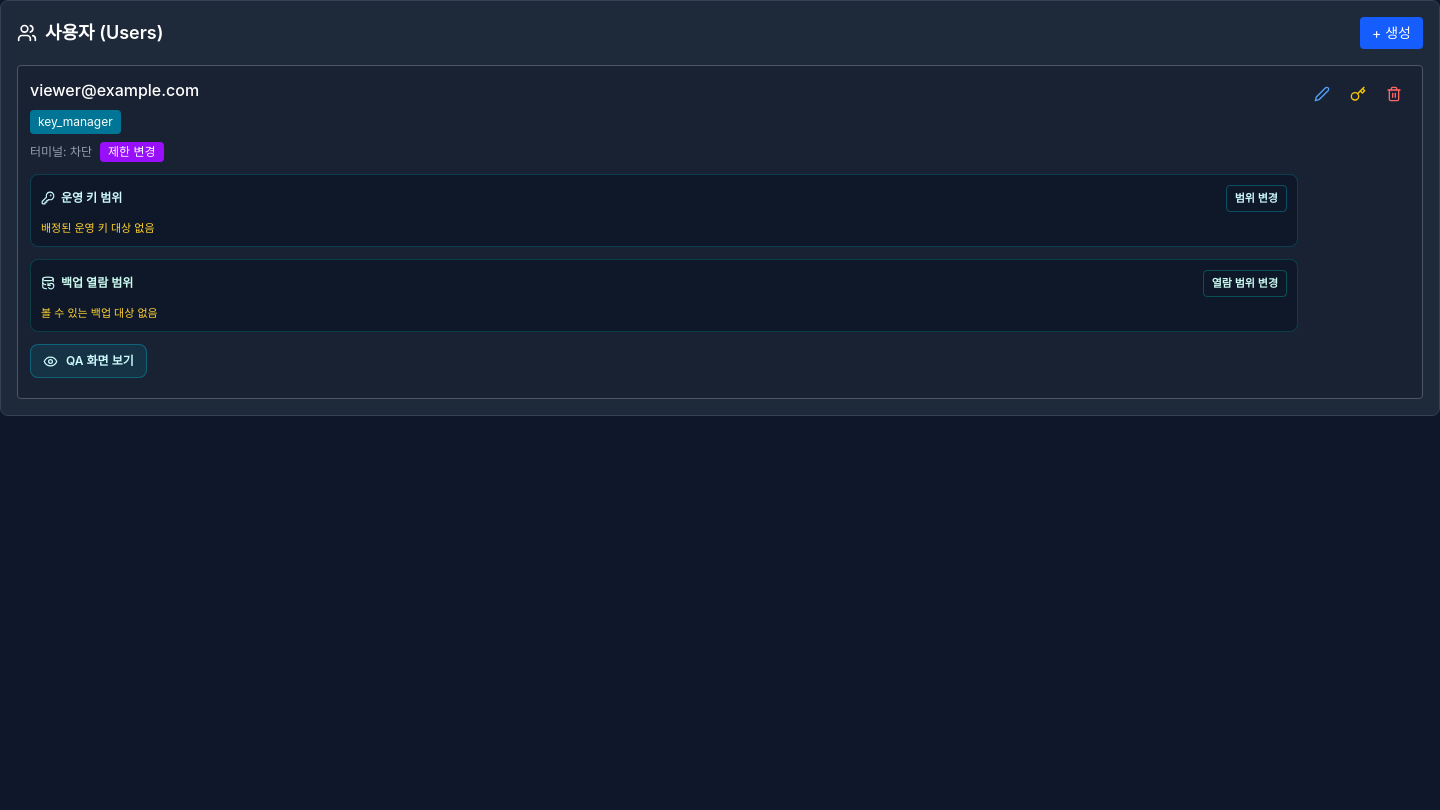
Scenario: UserList QA preview › 백업 열람 범위 › 볼 수 있는 대상을 체크해 저장한다
Click the button "열람 범위 변경".
click(1245, 283)  # box x1=1203 y1=270 x2=1287 y2=296
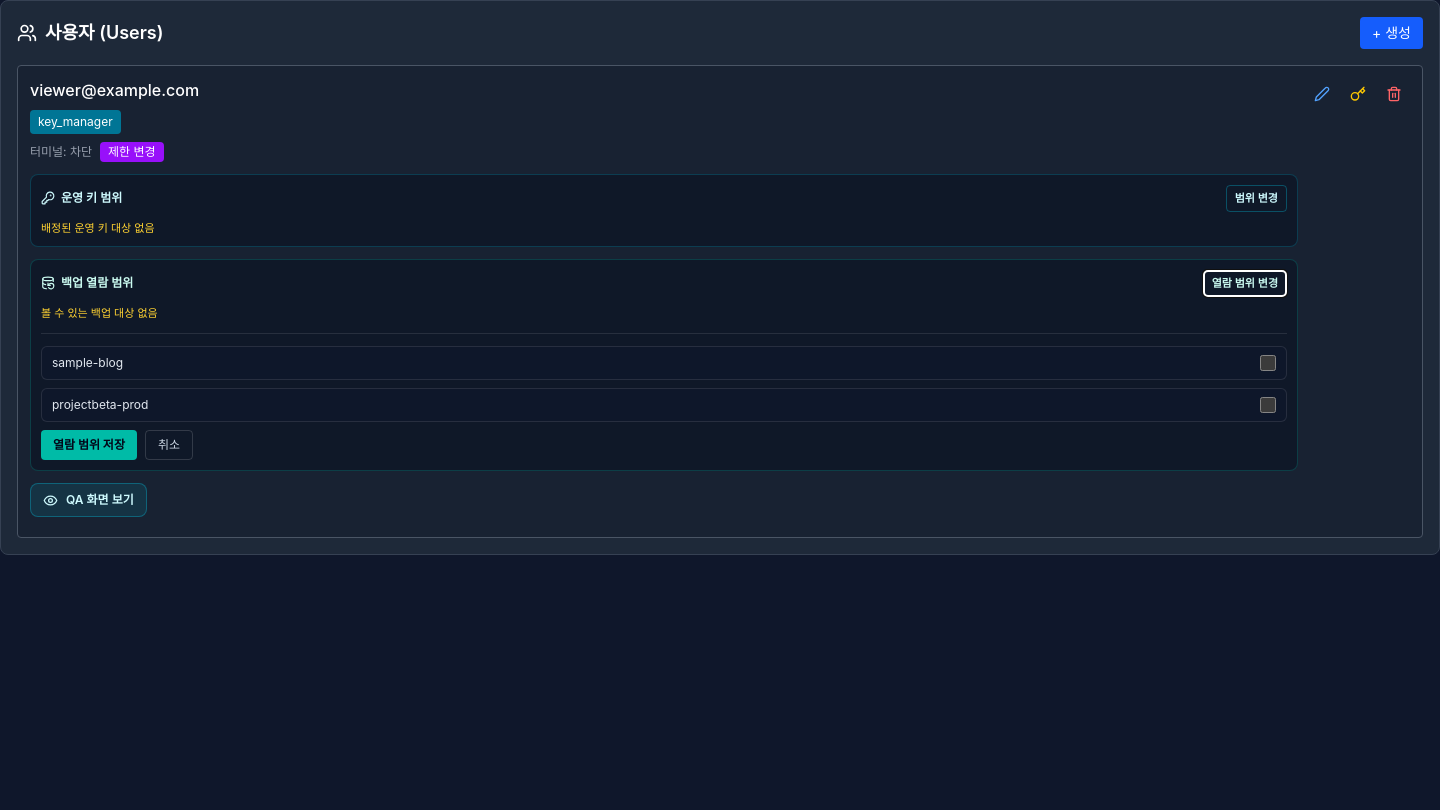
Click the checkbox labelled "projectbeta-prod".
click(1268, 405)  # box x1=1260 y1=397 x2=1276 y2=413
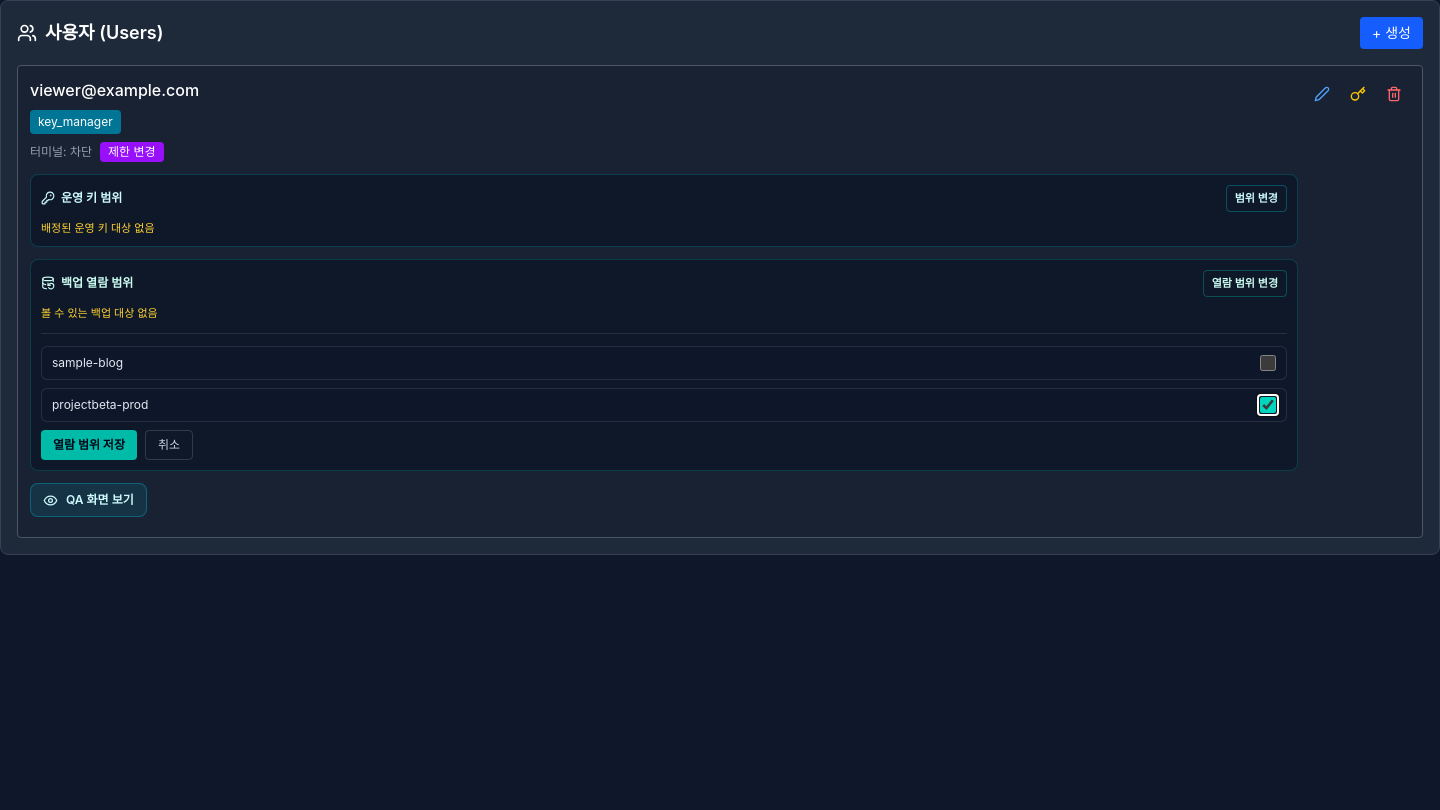
Click the button "열람 범위 저장".
click(89, 445)  # box x1=41 y1=430 x2=137 y2=460
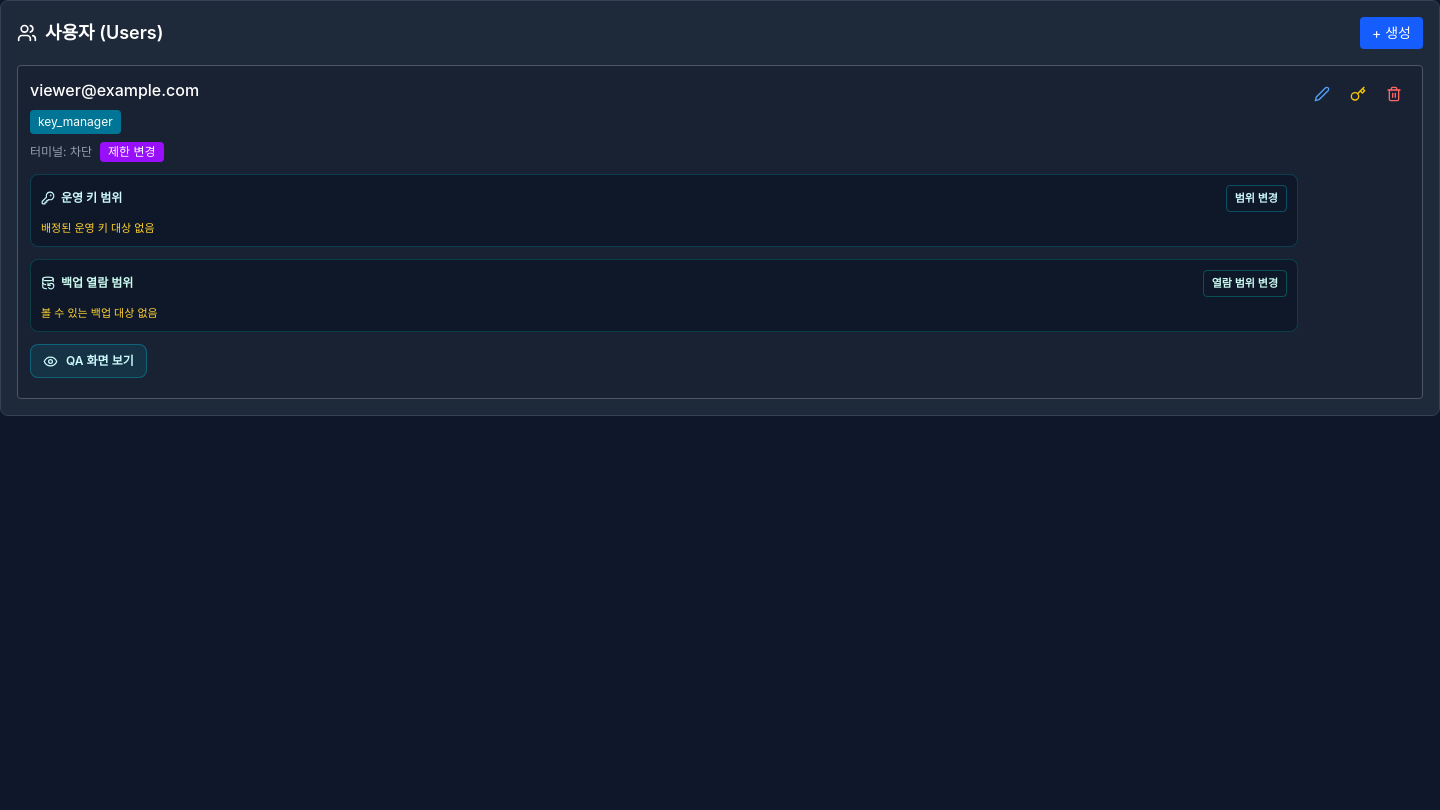
expect the button "열람 범위 저장" is gone: met
